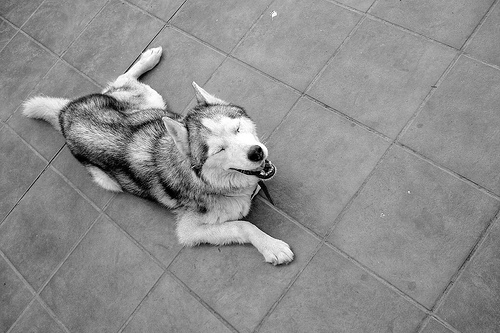dog: (20, 44, 294, 265)
